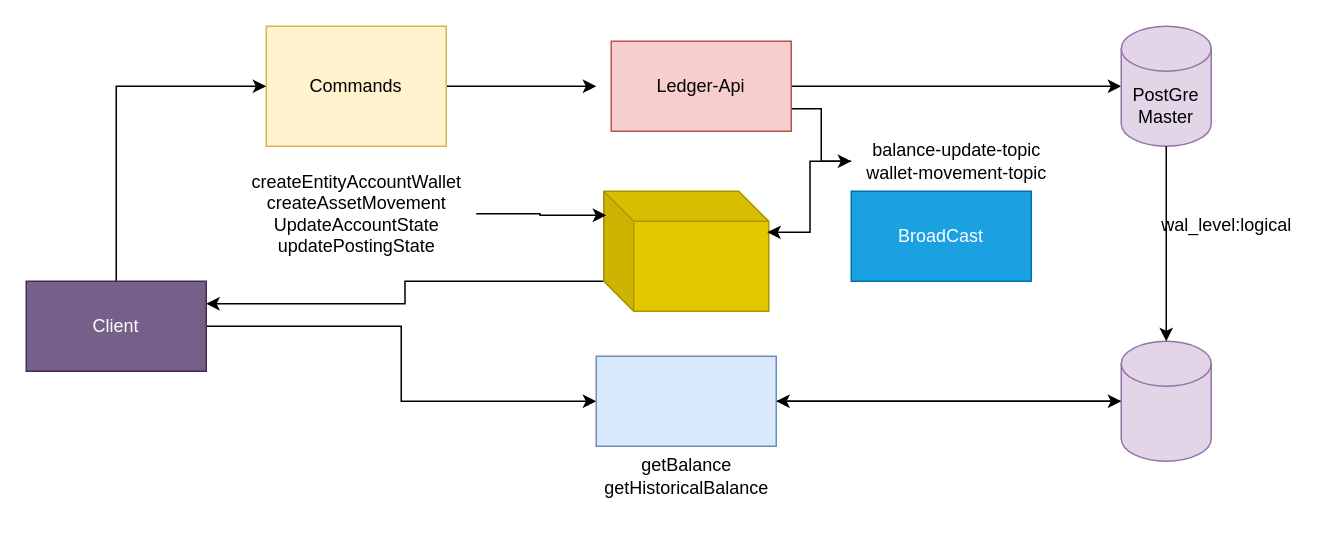
Image size: 1335x533. Some labels were removed from this diagram. The shapes that lost their labels are listed below. From the top down, each one's box as (x1, y1, x2, y2) in pixels, then its label:
(602, 190, 769, 311): Kafka
(595, 355, 776, 446): Query
(1120, 340, 1211, 461): Postgre Replica
